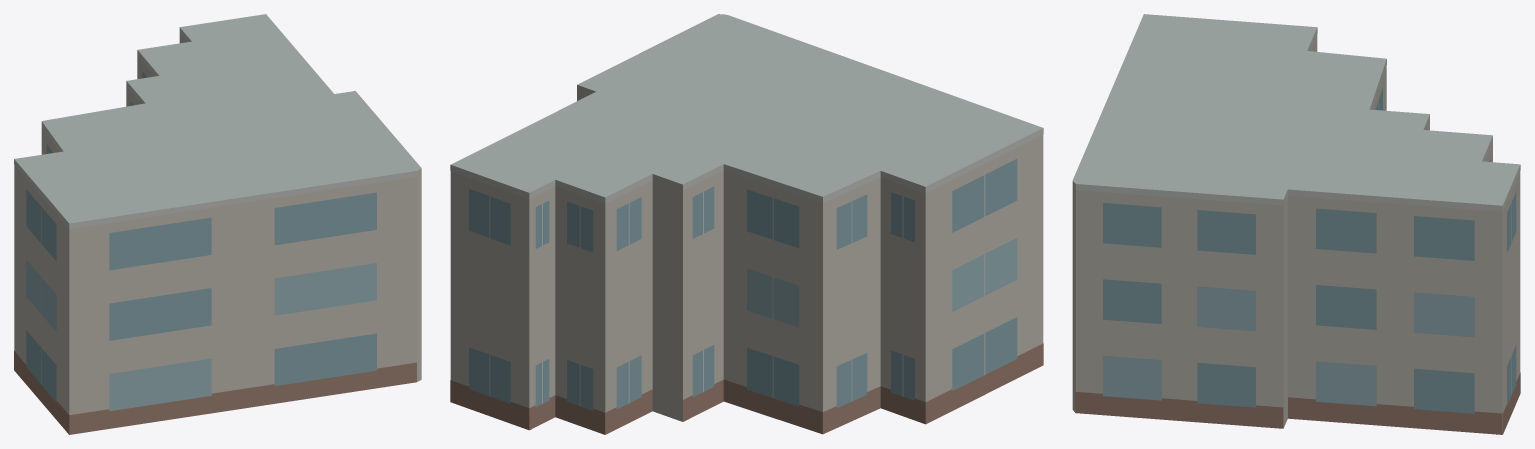
Rendered from survey-upis-32781426.glb.
3 renders of one model, left to right at view 1: azimuth 30°, elevation 25°; view 2: azimuth 150°, elevation 25°; view 3: azimuth 270°, elevation 25°, orthographic. The views are drawn at different scales.
Parts seen in each view (by area): view 1: survey-upis-32781426.tmp; view 2: survey-upis-32781426.tmp; view 3: survey-upis-32781426.tmp.
Boxes of the visible parts, left/top/right/bottom form: survey-upis-32781426.tmp: left=14, top=14, right=421, bottom=434; survey-upis-32781426.tmp: left=450, top=14, right=1043, bottom=434; survey-upis-32781426.tmp: left=1072, top=14, right=1520, bottom=434.
Bounding box in the file's own units: 16.42 × 9.15 × 16.22.
